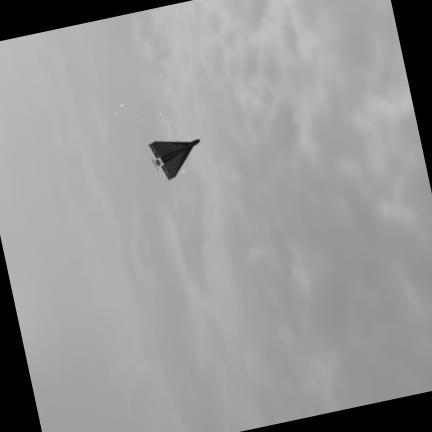Shahed: (149, 140, 198, 179)
